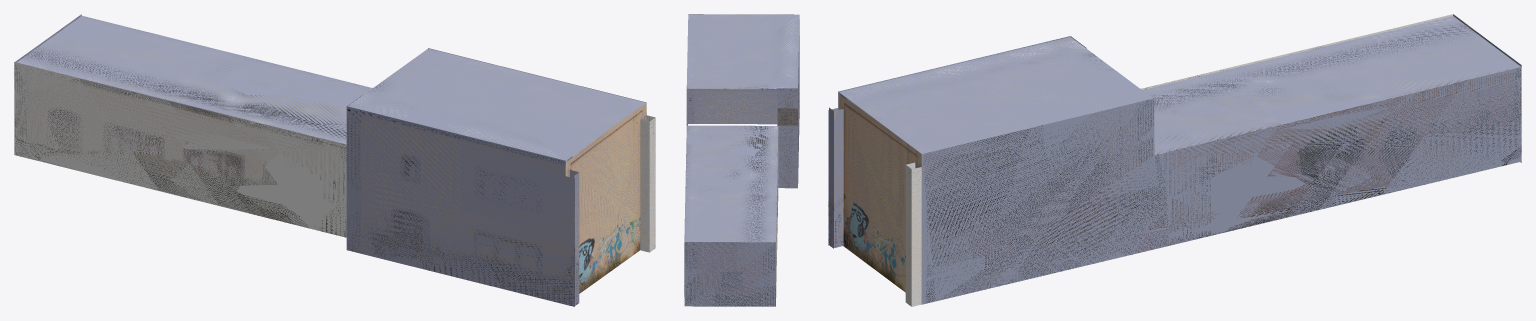
Rendered from Anexo a Teología.fbx.
3 renders of one model, left to right at view 1: azimuth 30°, elevation 25°; view 2: azimuth 150°, elevation 25°; view 3: azimuth 270°, elevation 25°, orthographic. The views are drawn at different scales.
Visible parts, largest first — view 1: Group1, Group2; view 2: Group1, Group2; view 3: Group1, Group2.
Boxes of the visible parts, left/top/right/bottom form: Group1: left=14, top=14, right=655, bottom=306; Group2: left=565, top=103, right=646, bottom=293; Group1: left=684, top=14, right=799, bottom=306; Group2: left=688, top=14, right=793, bottom=89; Group1: left=828, top=14, right=1521, bottom=306; Group2: left=838, top=92, right=921, bottom=292.
Size of the model in its own units: 22.98 by 8.33 by 34.22.
